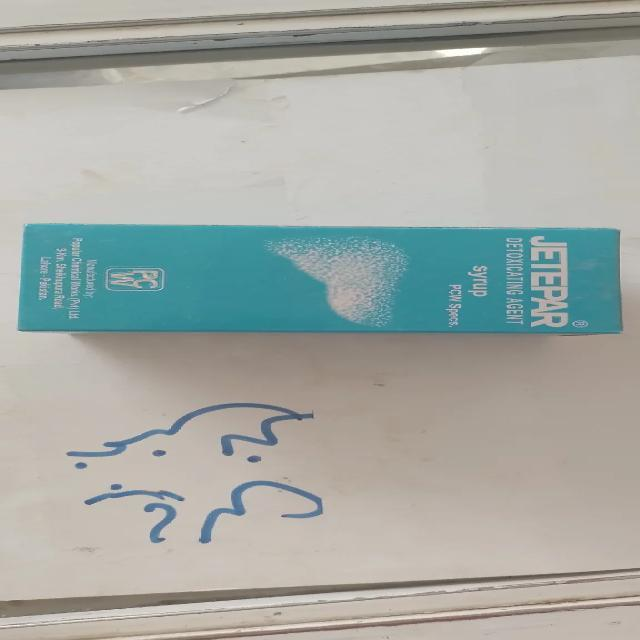drug-name: (530, 235, 568, 328)
